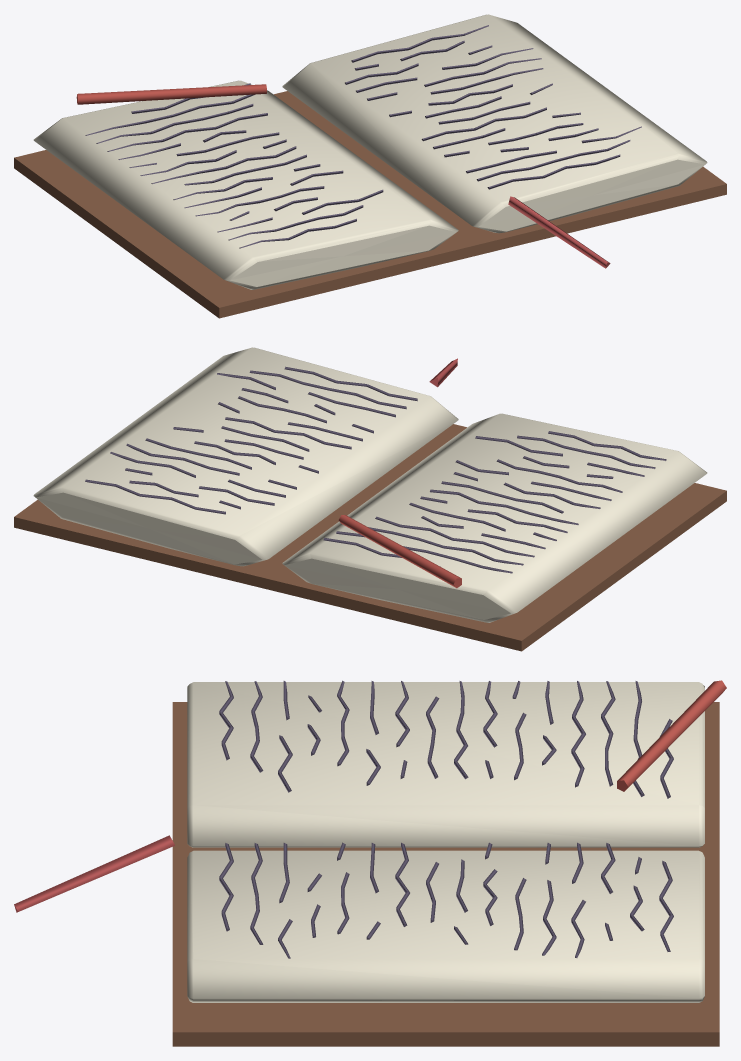
File: storm_diary_a_open.glb
The picture shows the model from 3 angles, top to bottom: view 1: azimuth 30°, elevation 25°; view 2: azimuth 150°, elevation 25°; view 3: azimuth 270°, elevation 25°; orthographic projection. The views are drawn at different scales.
Parts seen in each view (by area): view 1: body; view 2: body; view 3: body.
Boxes of the visible parts, box(x1,y1,x2,y2) form: body: box(14, 14, 726, 318); body: box(14, 347, 726, 651); body: box(14, 680, 726, 1046).
Size of the model in its own units: 0.4 by 0.0438 by 0.3649.
